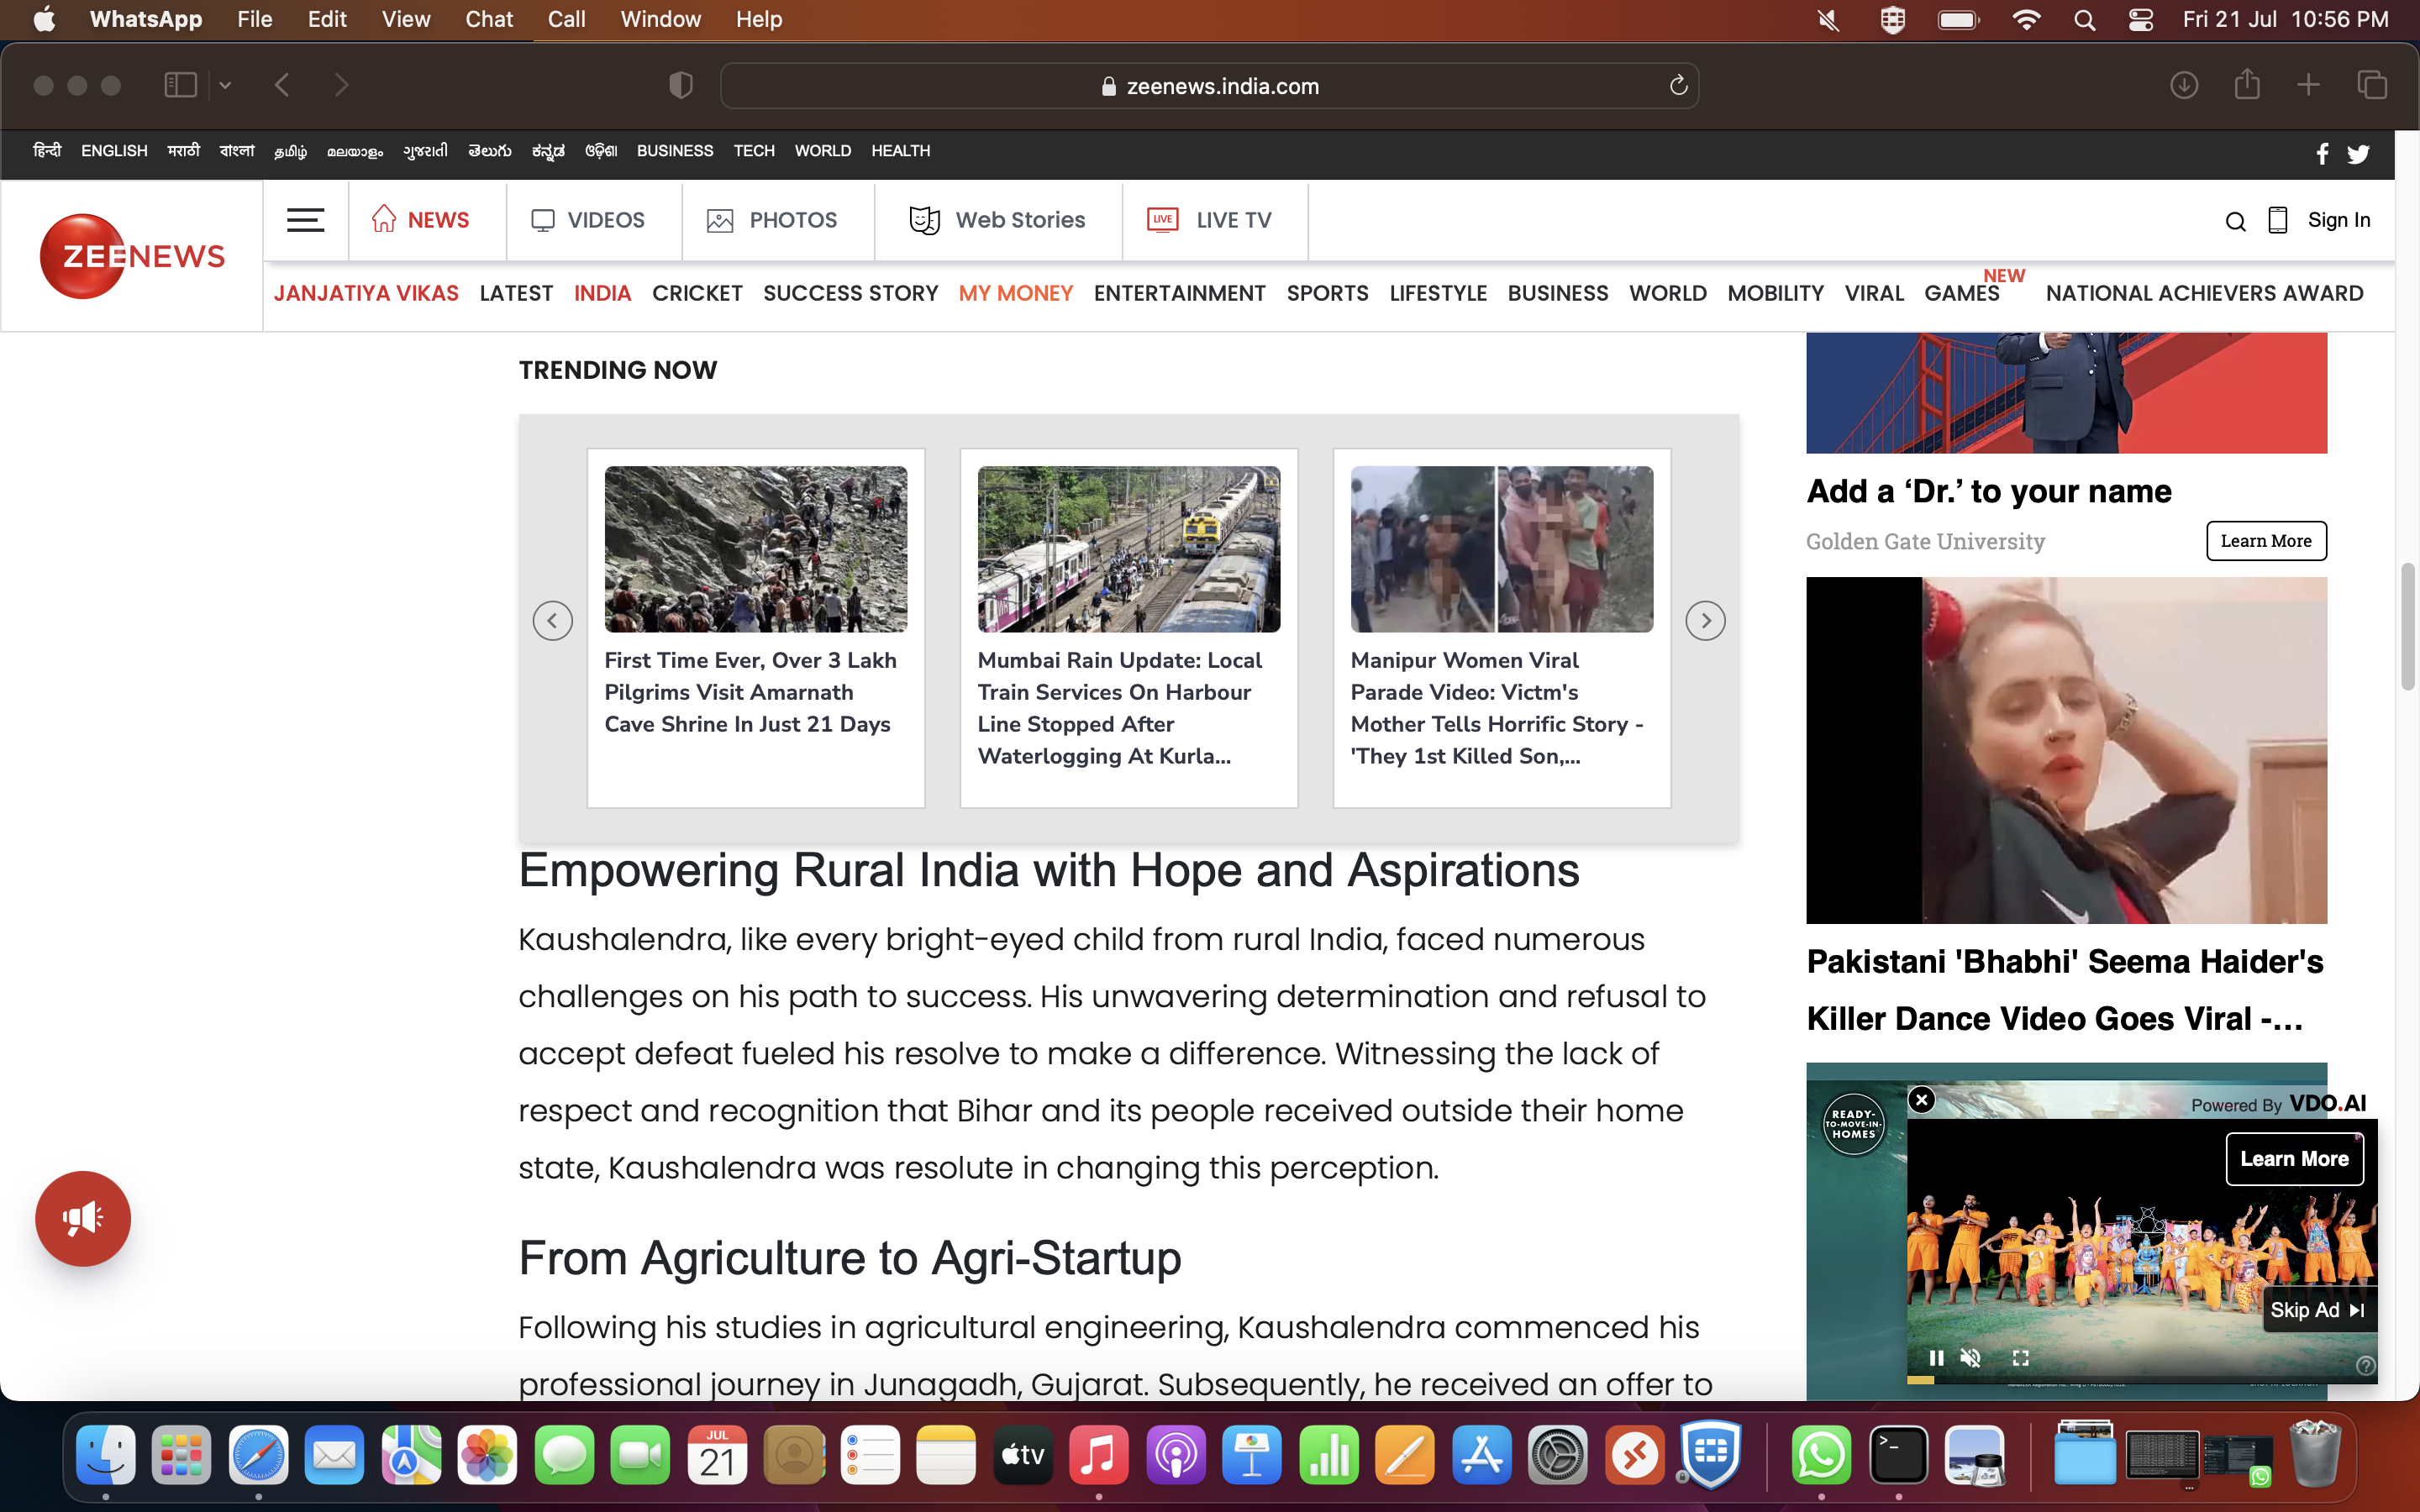Image: (1810, 580, 2329, 928), (1916, 1094, 2376, 1371), (1814, 333, 2326, 460), (1352, 460, 1657, 627), (606, 477, 906, 617), (988, 477, 1275, 620)
Paragraph: (500, 916, 1718, 1204), (510, 1306, 1735, 1392), (510, 843, 1587, 902), (510, 1218, 1204, 1296), (1800, 946, 2363, 1038), (960, 631, 1272, 775), (1345, 641, 1653, 775), (603, 634, 913, 754), (1810, 467, 2185, 517), (261, 261, 470, 315), (1803, 521, 2058, 563), (504, 343, 740, 387), (946, 265, 1094, 326), (765, 273, 932, 308), (648, 261, 751, 315), (2216, 524, 2319, 559), (481, 273, 559, 315), (563, 273, 634, 312)
